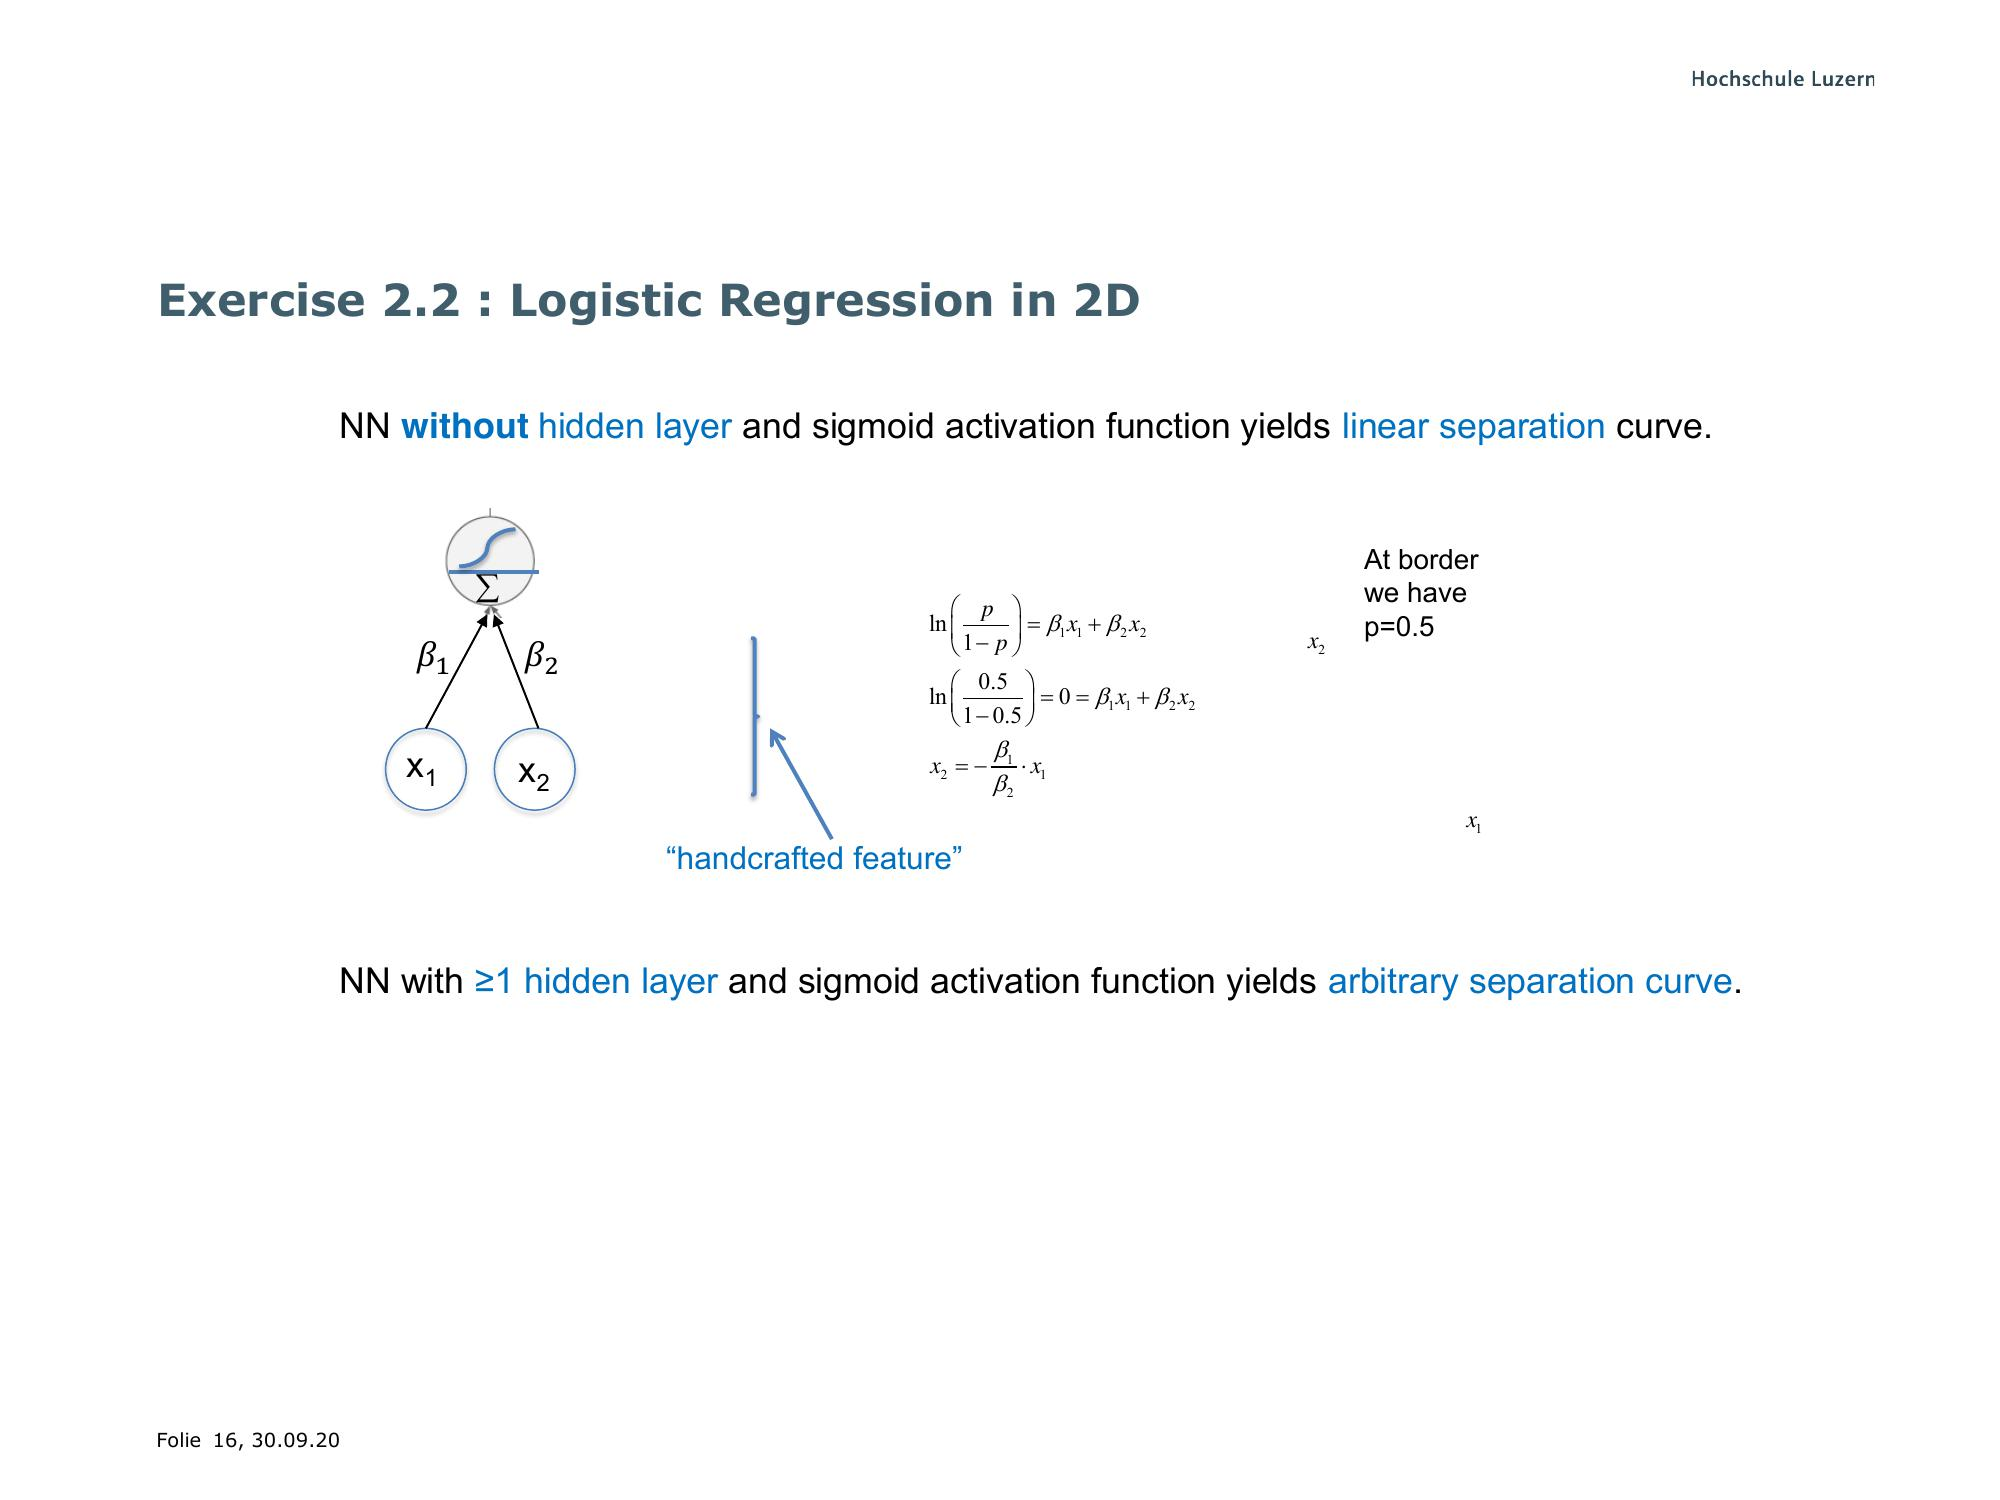Title: (112, 254, 1165, 347)
